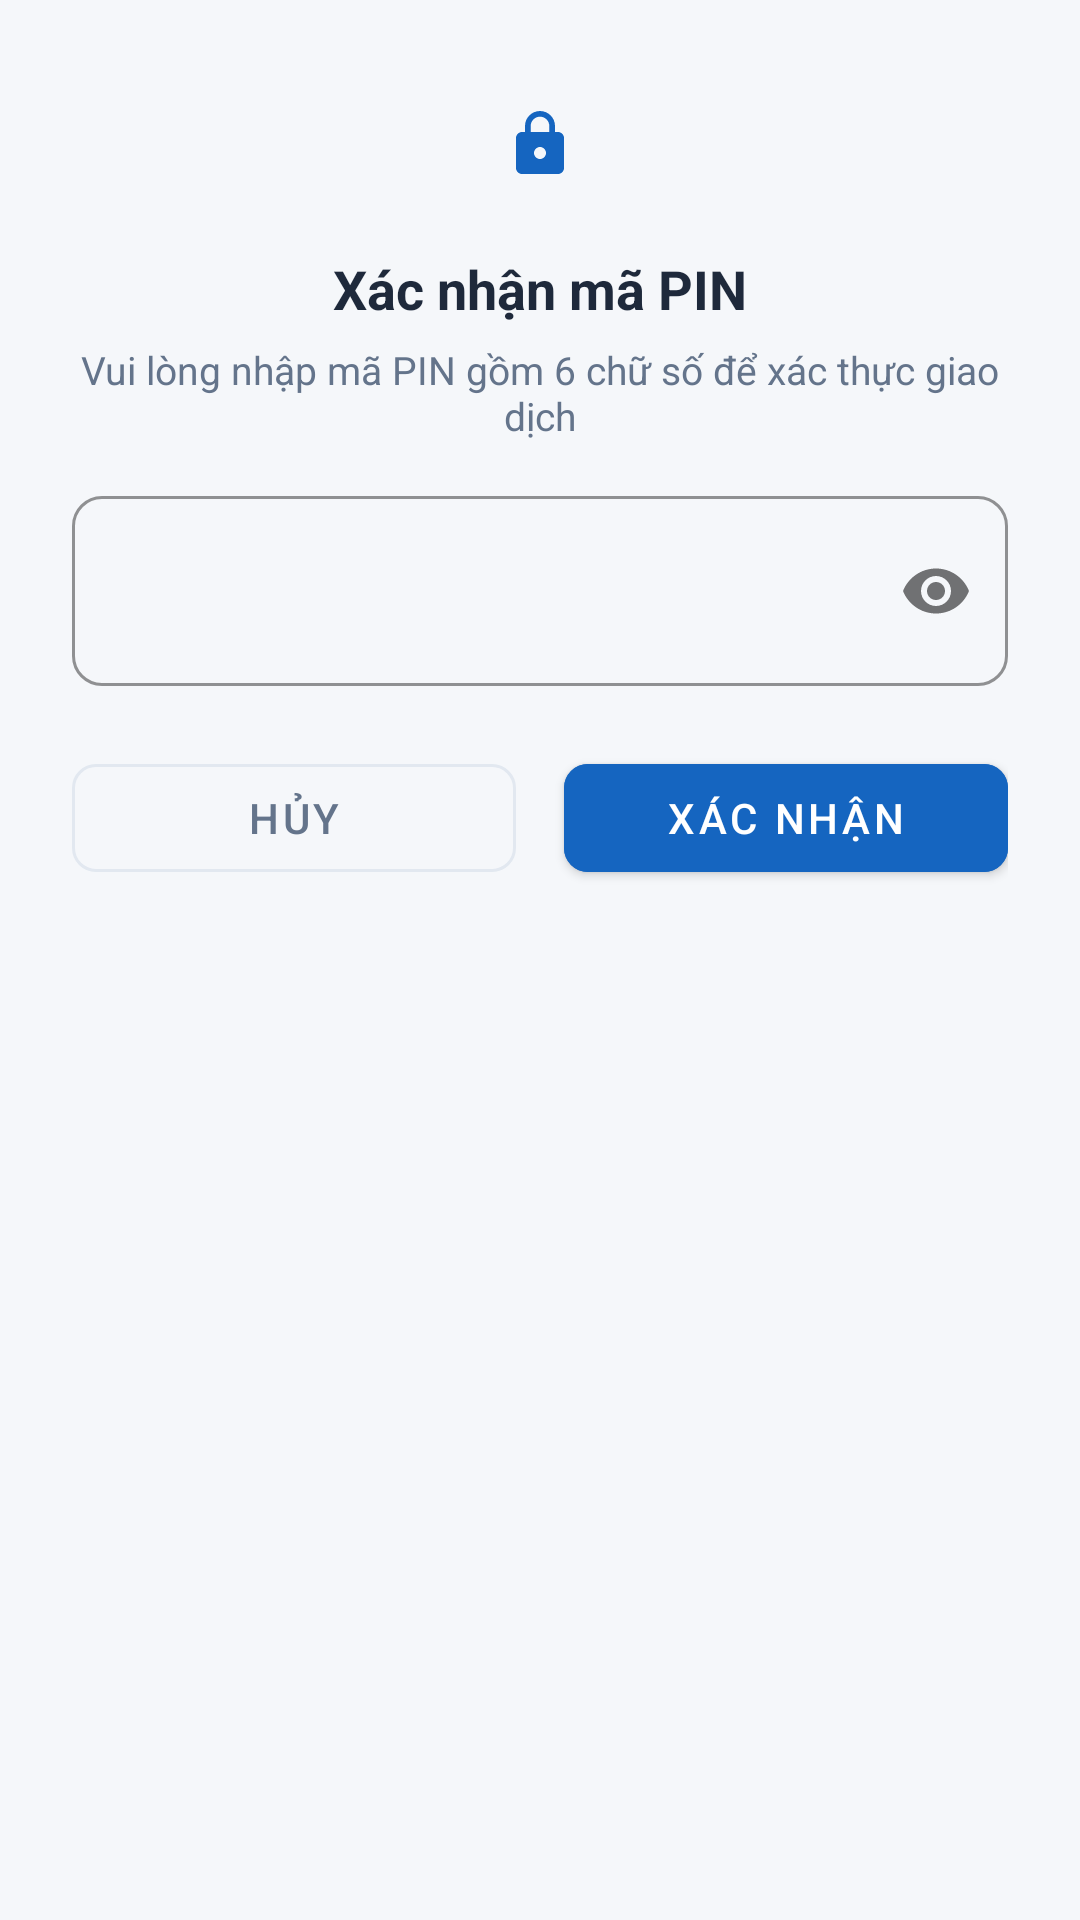

Named icons in this screenshot (1080×1920) and their centers, point (x, y):
Security Lock: point (540, 142)
